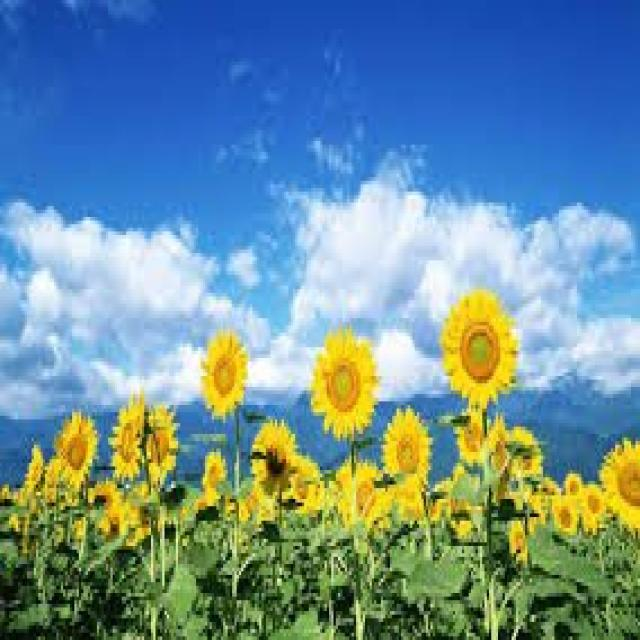sunflower: (439, 290, 518, 408), (308, 326, 378, 438), (198, 329, 248, 419), (381, 405, 433, 481), (248, 416, 297, 495), (599, 438, 638, 532), (333, 456, 381, 528), (52, 408, 97, 484), (109, 394, 150, 477), (144, 405, 182, 476), (291, 454, 321, 506), (509, 426, 539, 476), (458, 409, 484, 463), (579, 483, 604, 532), (83, 481, 116, 509), (203, 448, 225, 489), (554, 500, 578, 533), (26, 445, 42, 485), (564, 474, 580, 494)
